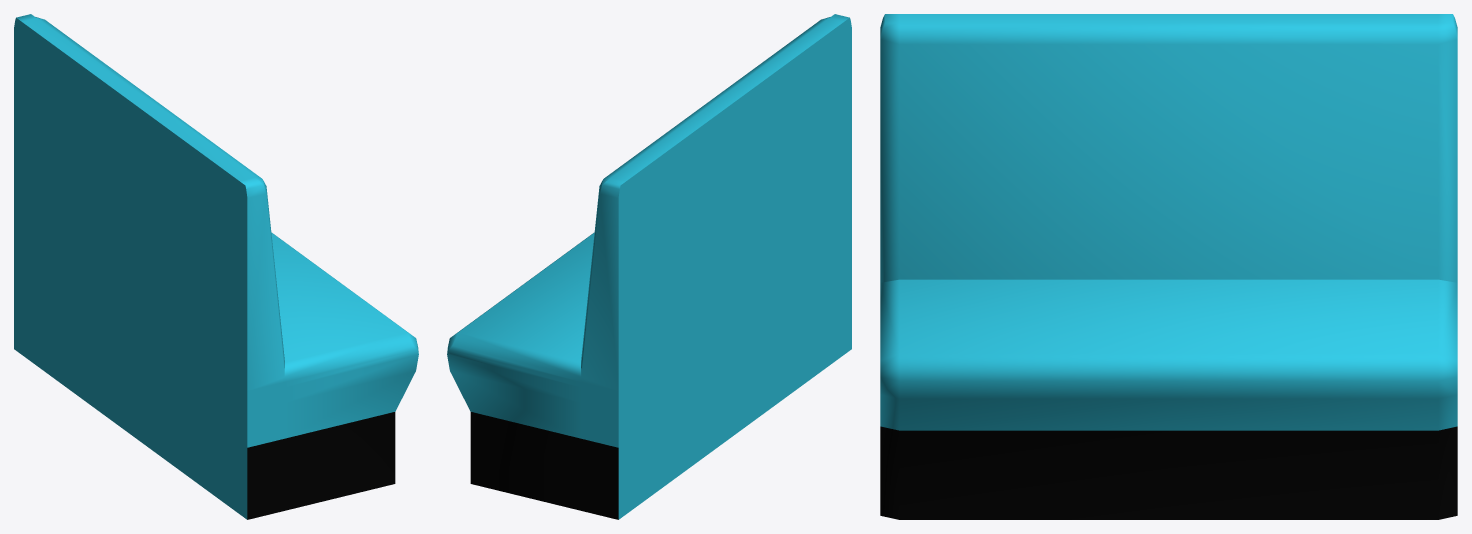
Rendered from Sofa.fbx.
3 views of the same model, side by side, from view 1: azimuth 30°, elevation 25°; view 2: azimuth 150°, elevation 25°; view 3: azimuth 270°, elevation 25° (orthographic). The views are drawn at different scales.
Parts seen in each view (by area): view 1: Sofa; view 2: Sofa; view 3: Sofa.
Part boxes in pixels (x1=…): Sofa: x1=14, y1=14, x2=418, y2=519; Sofa: x1=447, y1=14, x2=851, y2=519; Sofa: x1=880, y1=14, x2=1457, y2=519.
Size of the model in its own units: 47.37 by 84.43 by 107.
